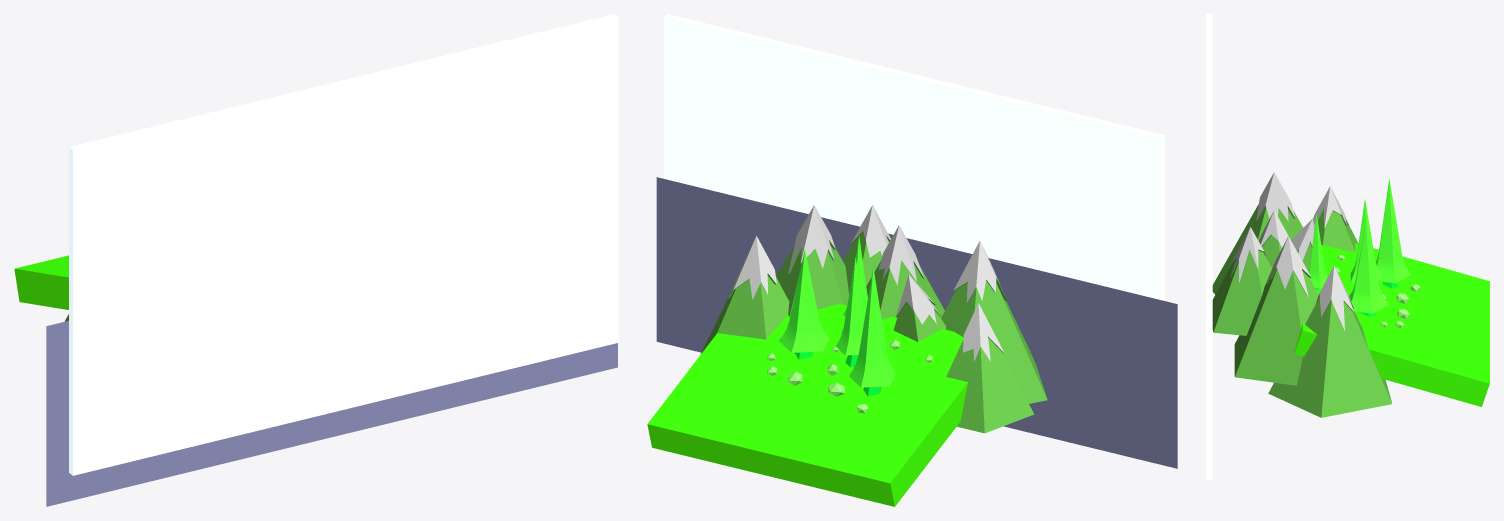
Rendered from woodcutter_bg.fbx.
3 views of the same model, side by side, from view 1: azimuth 30°, elevation 25°; view 2: azimuth 150°, elevation 25°; view 3: azimuth 270°, elevation 25° (orthographic). The views are drawn at different scales.
Parts seen in each view (by area): view 1: Cube.001, Cube; view 2: Cube.001, Cube; view 3: Cube, Cube.001.
Part boxes in pixels (x1,y1,x2,y2): Cube.001: (46,14,618,506); Cube: (14,255,68,321); Cube.001: (656,14,1177,468); Cube: (647,205,1047,506); Cube: (1212,172,1489,417); Cube.001: (1206,14,1212,480).
Bounding box in the file's own units: 16326 × 9727 × 8905.
